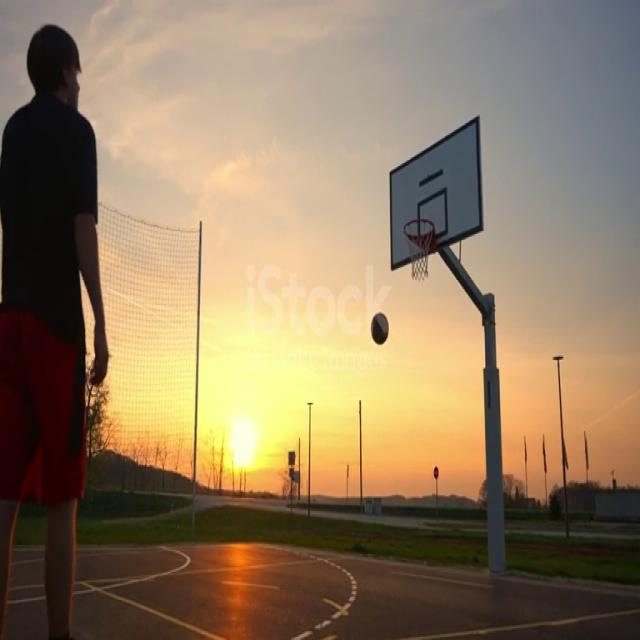ball: (371, 313, 389, 345)
